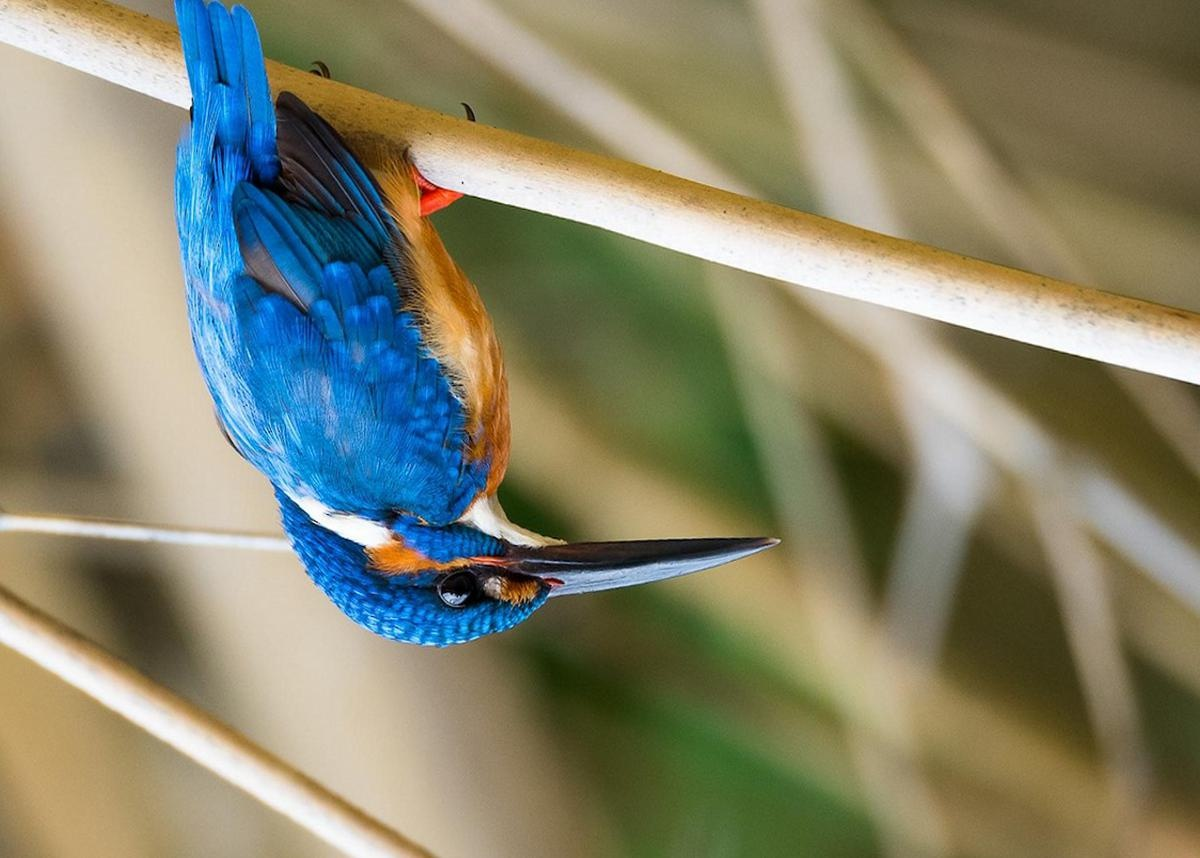kingfisher: (150, 10, 799, 674)
